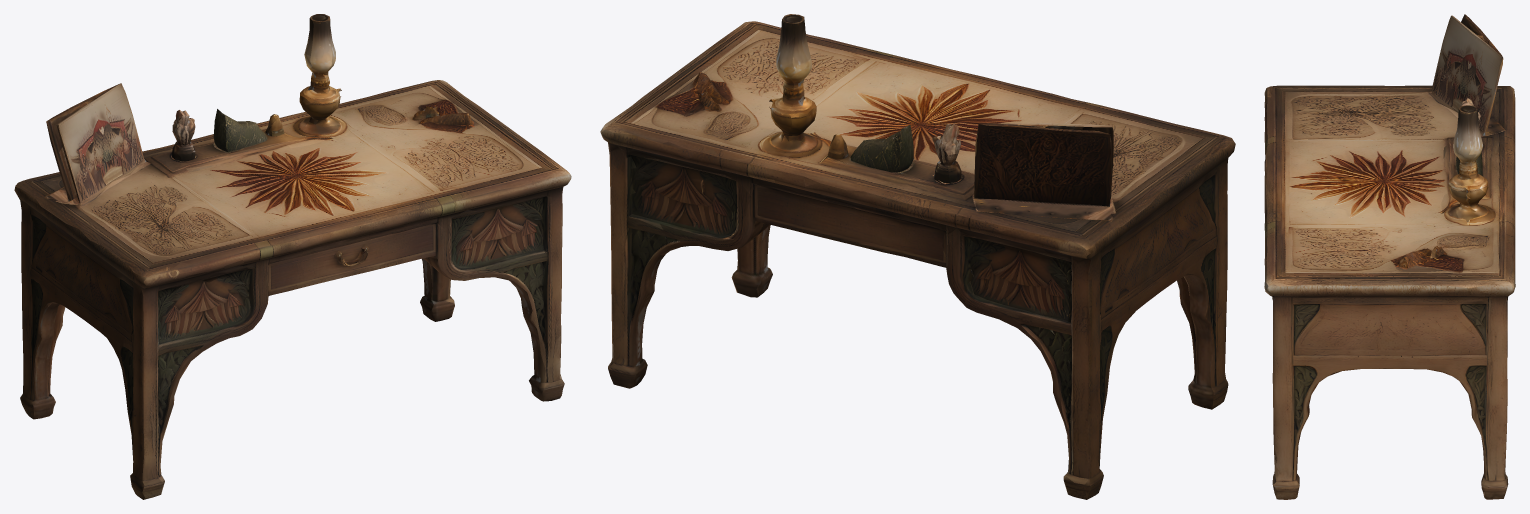
The model's file is Desk.fbx.
3 views of the same model, side by side, from view 1: azimuth 30°, elevation 25°; view 2: azimuth 150°, elevation 25°; view 3: azimuth 270°, elevation 25° (orthographic). The views are drawn at different scales.
Visible parts, largest first — view 1: input; view 2: input; view 3: input.
Part boxes in pixels (box(x1,y1,x2,y2)): input: box(14, 14, 571, 499); input: box(600, 14, 1235, 499); input: box(1264, 14, 1515, 499).
Size of the model in its own units: 99.94 by 75.76 by 52.8.
Materials: 1 (1 with a texture image).
